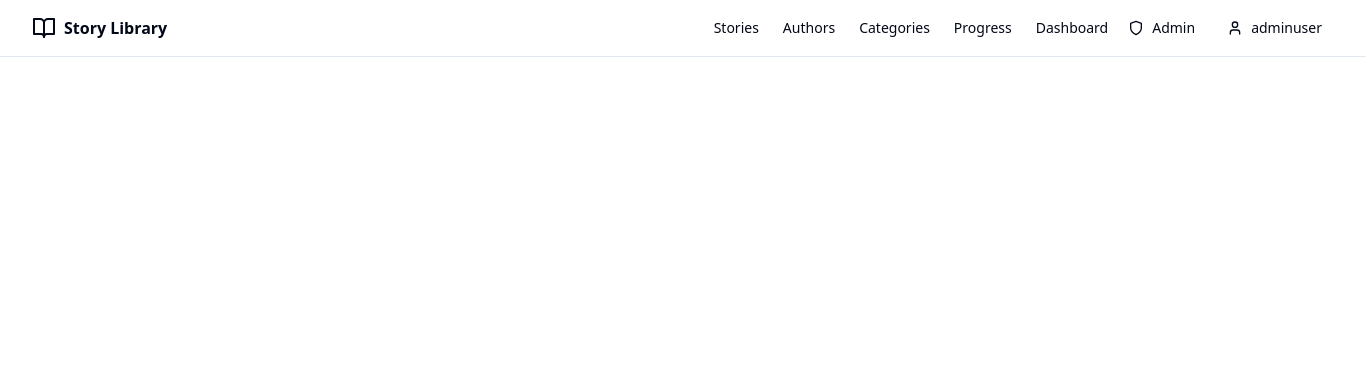
Scenario: Navigation › Authenticated admin › should show admin panel in dropdown
The image size is (1366, 375).
Click the button "adminuser" at point(1275, 28), box [1215,10,1334,46]
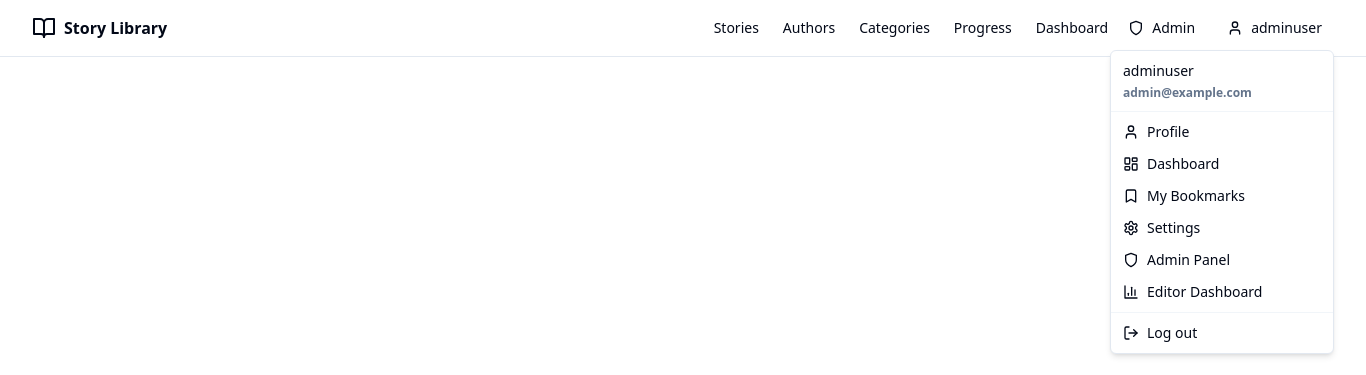
Expected: the text "Admin Panel" is shown, [1147,250,1230,270]
